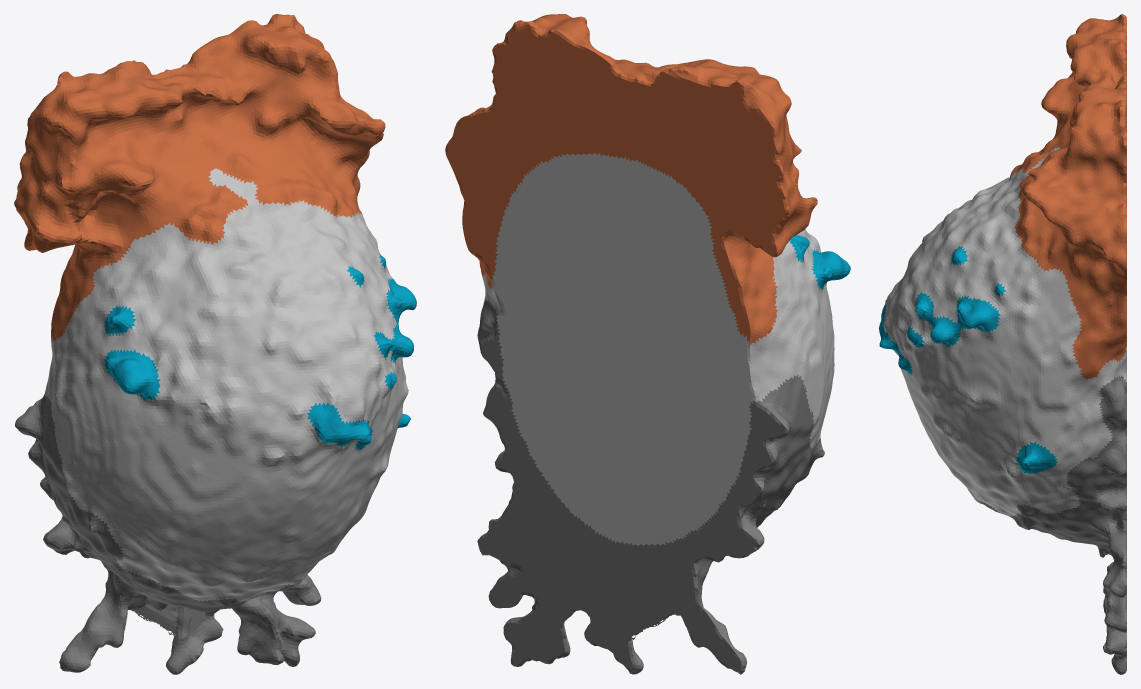
The picture shows the model from 3 angles, left to right: view 1: azimuth 30°, elevation 25°; view 2: azimuth 150°, elevation 25°; view 3: azimuth 270°, elevation 25°; orthographic projection. The views are drawn at different scales.
Bounding box in the file's own units: 92.21 × 165 × 65.19.
